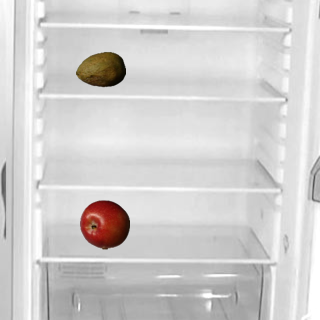Apple Braeburn: (79, 199, 129, 249)
Papaya: (75, 44, 125, 94)
